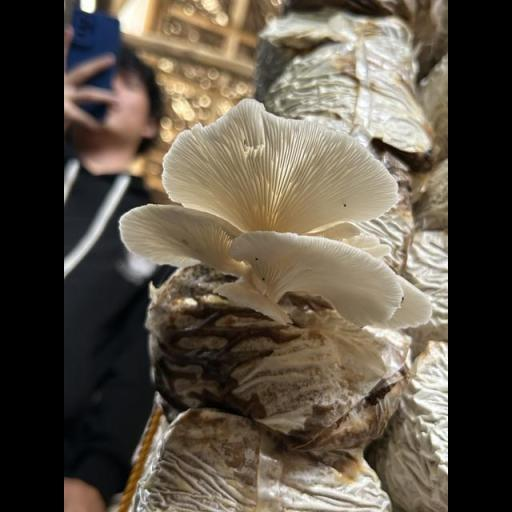White Oyster Mushroom: (116, 94, 444, 347)
